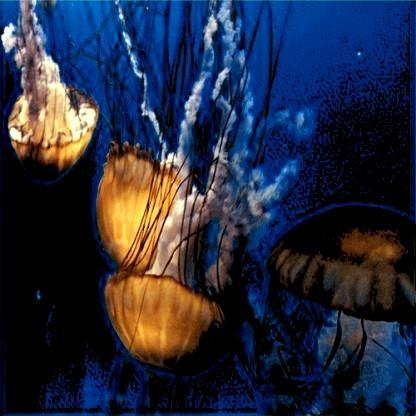Dressed: (104, 6, 284, 376), (270, 202, 414, 412), (103, 3, 207, 277), (3, 1, 98, 179)
